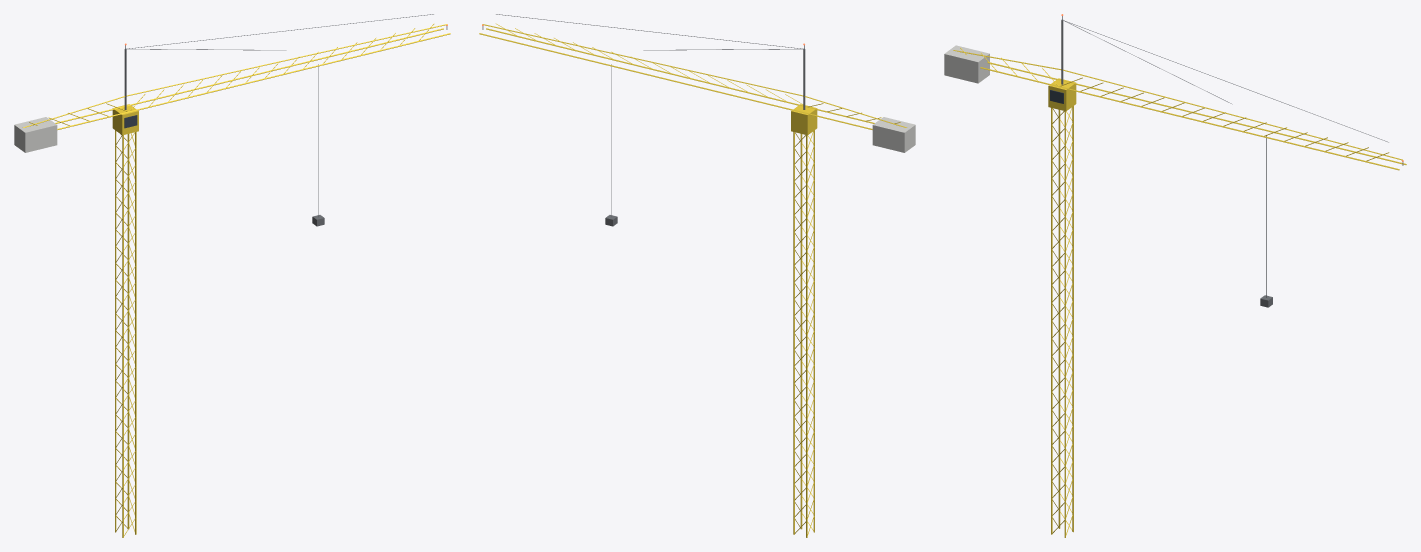
Rendered from tower_crane.glb.
The picture shows the model from 3 angles, left to right: view 1: azimuth 30°, elevation 25°; view 2: azimuth 150°, elevation 25°; view 3: azimuth 330°, elevation 25°; orthographic projection. The views are drawn at different scales.
Parts seen in each view (by area): view 1: tower_crane; view 2: tower_crane; view 3: tower_crane.
Boxes of the visible parts, x1=… form: tower_crane: x1=14, y1=14, x2=450, y2=537; tower_crane: x1=479, y1=14, x2=915, y2=537; tower_crane: x1=944, y1=14, x2=1406, y2=537.
Size of the model in its own units: 66.63 by 72.88 by 3.
